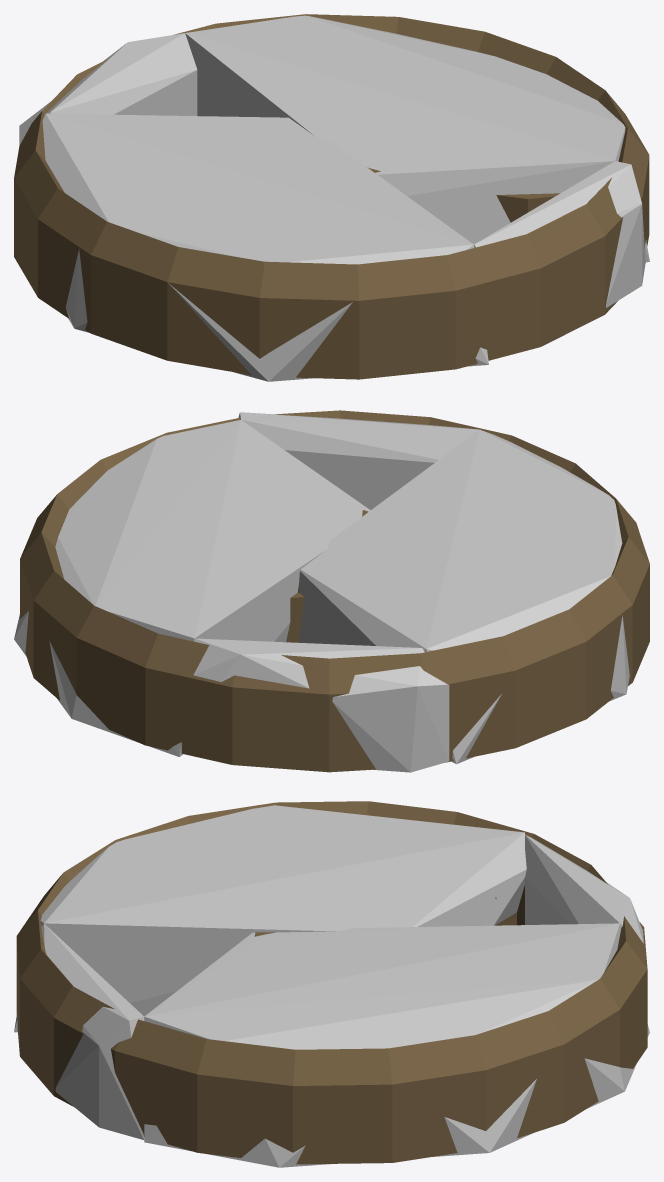
The model's file is SM_Bld_Planetarium_01_Gear_03.fbx.
The picture shows the model from 3 angles, top to bottom: view 1: azimuth 30°, elevation 25°; view 2: azimuth 150°, elevation 25°; view 3: azimuth 270°, elevation 25°; orthographic projection.
Parts seen in each view (by area): view 1: SM_Bld_Planetarium_01_Gear_03_ConvexHulls, SM_Bld_Planetarium_01_Gear_03; view 2: SM_Bld_Planetarium_01_Gear_03_ConvexHulls, SM_Bld_Planetarium_01_Gear_03; view 3: SM_Bld_Planetarium_01_Gear_03_ConvexHulls, SM_Bld_Planetarium_01_Gear_03.
Part boxes in pixels (x1,y1,x2,y2): SM_Bld_Planetarium_01_Gear_03_ConvexHulls: [19, 15, 649, 381]; SM_Bld_Planetarium_01_Gear_03: [14, 14, 649, 379]; SM_Bld_Planetarium_01_Gear_03_ConvexHulls: [14, 412, 629, 772]; SM_Bld_Planetarium_01_Gear_03: [20, 410, 649, 772]; SM_Bld_Planetarium_01_Gear_03_ConvexHulls: [14, 805, 649, 1167]; SM_Bld_Planetarium_01_Gear_03: [16, 801, 647, 1164].
Bounding box in the file's own units: 108 × 108 × 20.47.
Materials: 2 (1 with a texture image).
